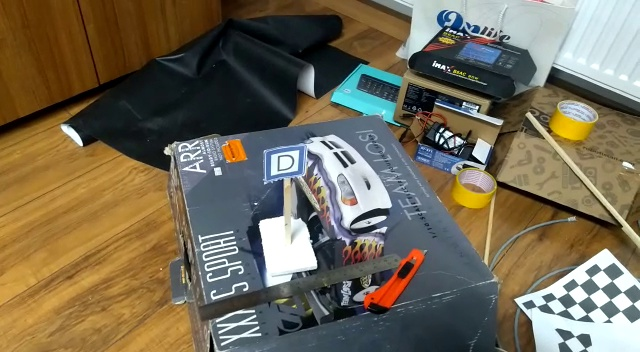durak: (261, 140, 307, 186)
